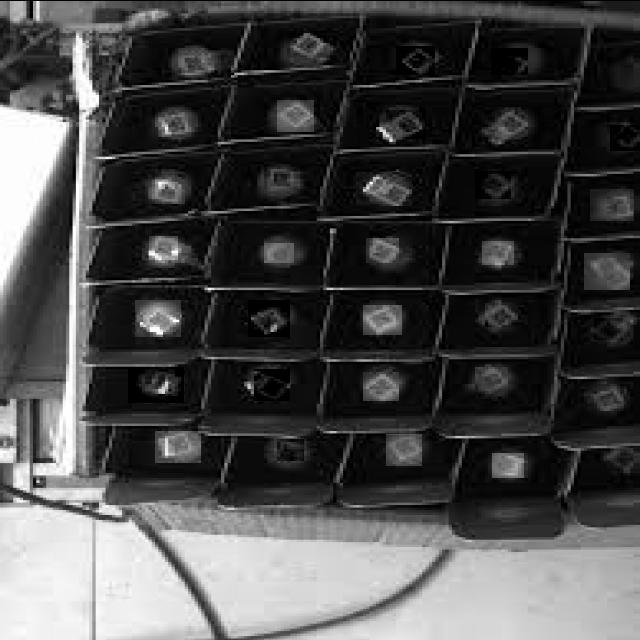Data-Matrix: (129, 366, 185, 402), (357, 171, 413, 205), (136, 299, 182, 336), (584, 252, 630, 289), (248, 299, 290, 336), (155, 430, 201, 462), (590, 188, 634, 220), (277, 99, 314, 131), (363, 304, 402, 334), (386, 109, 426, 138), (254, 368, 290, 400), (386, 433, 422, 465), (396, 45, 435, 74), (148, 173, 185, 203), (363, 371, 399, 400), (287, 30, 327, 56), (475, 170, 511, 198), (491, 47, 528, 74), (587, 383, 624, 410), (158, 111, 192, 136), (366, 237, 399, 262), (495, 111, 528, 136), (492, 452, 524, 477), (475, 366, 508, 390), (485, 302, 518, 326), (610, 124, 640, 150), (482, 240, 514, 264), (607, 448, 640, 470), (149, 235, 178, 259), (264, 168, 297, 188), (594, 317, 623, 339), (178, 52, 208, 72), (264, 242, 294, 262), (277, 438, 304, 460)
